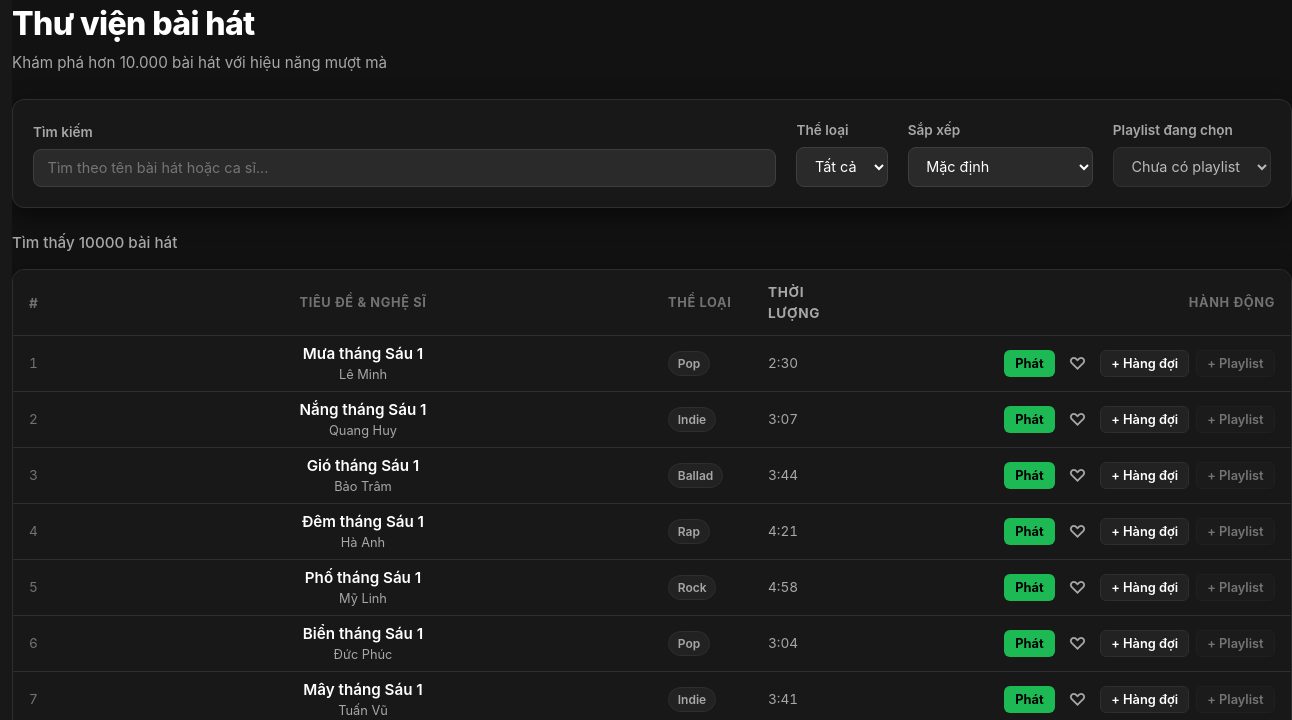
it: Kiểm thử component LibraryPage › gõ "mưa" vào ô tìm kiếm thì chỉ lọc lại sau 300ms và tìm thấy 1250 bài hát
Type "mưa" into the field labelled "Tìm kiếm" at (405, 168), box [33,149,776,187]
Wait 300 ms
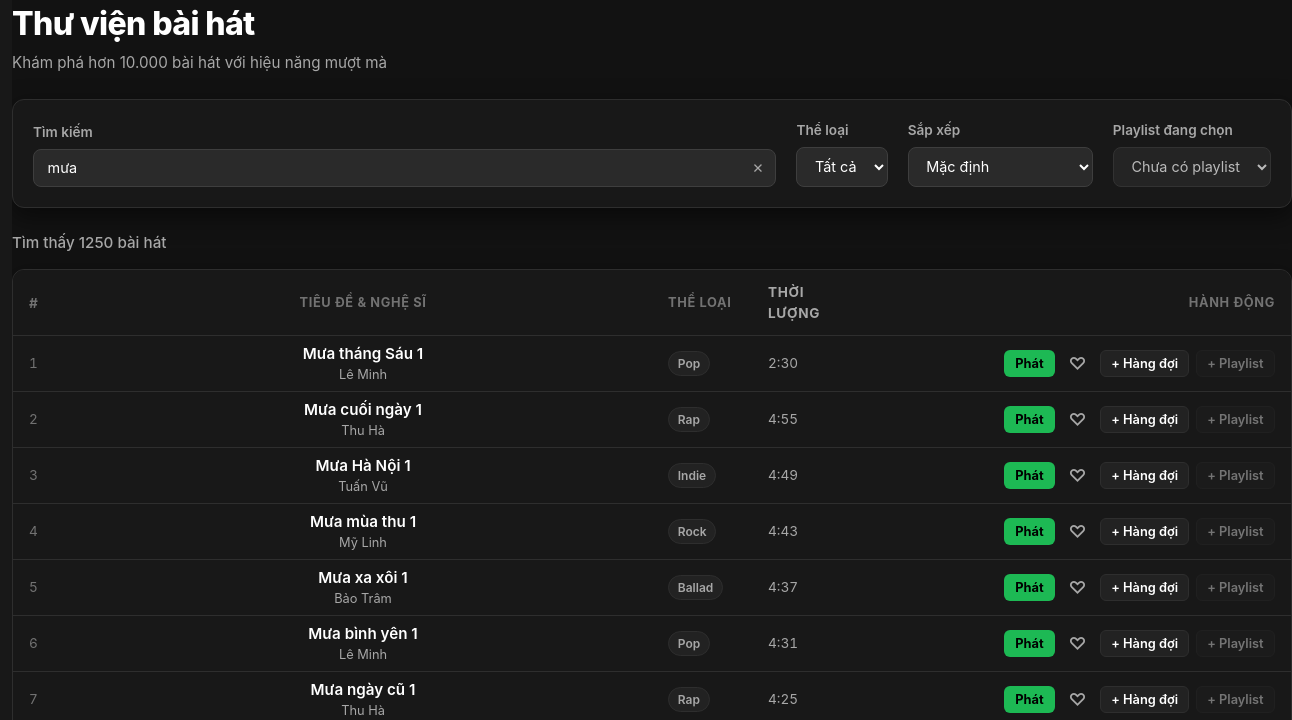
Now the text "Tìm thấy 1250 bài hát" is shown, box [12,233,166,252]
